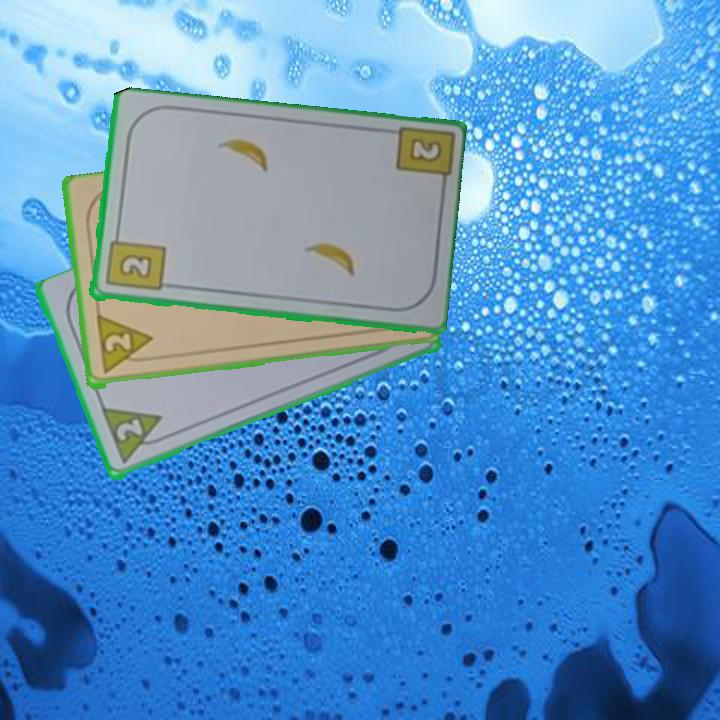2b: (102, 228, 167, 294), (408, 138, 441, 163)
2p: (93, 314, 157, 379), (112, 415, 146, 445)
